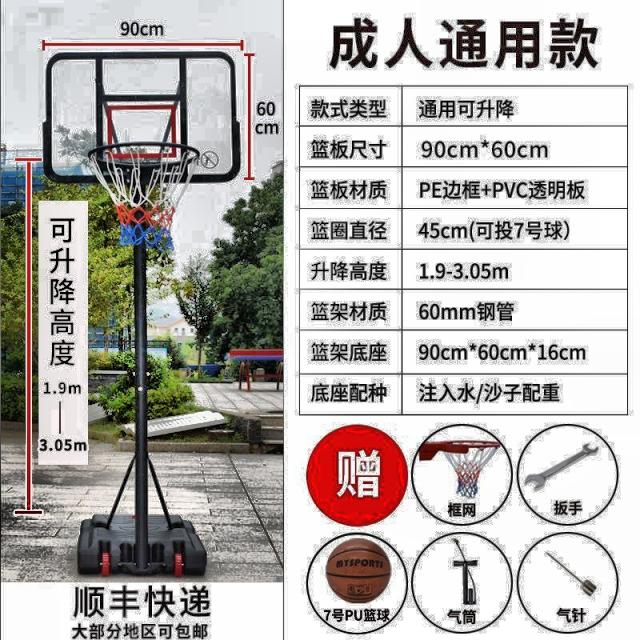rim: (86, 141, 200, 247)
